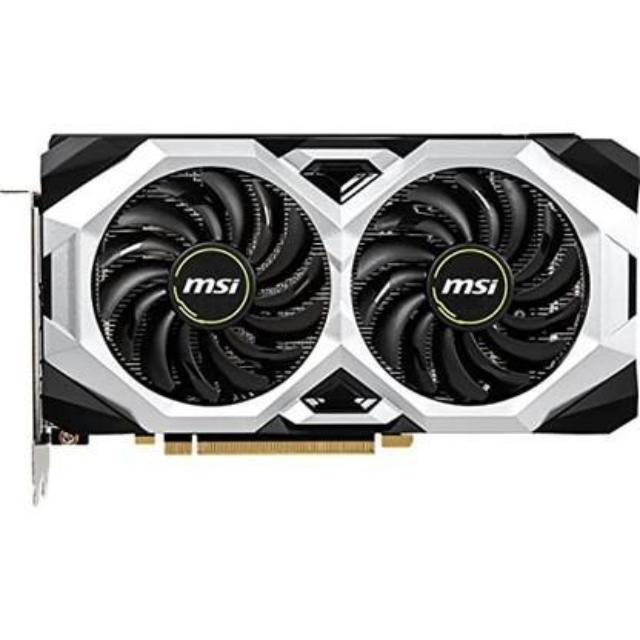GPU: (23, 119, 640, 462)
